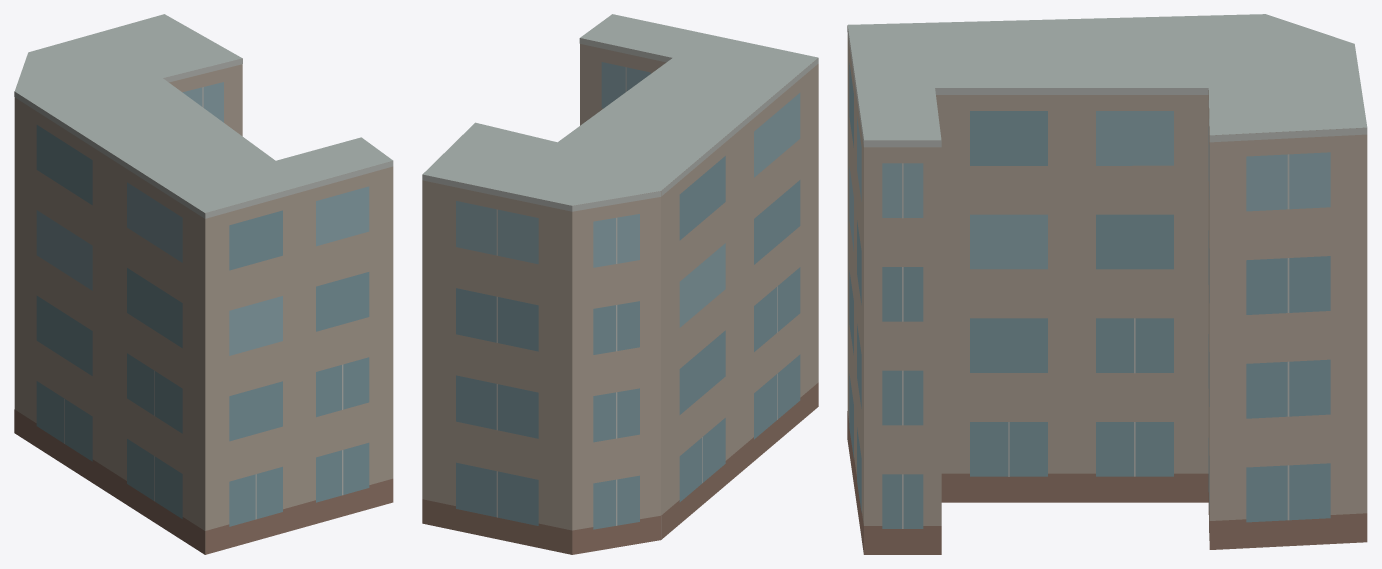
File: survey-upis-32469194.glb
The picture shows the model from 3 angles, left to right: view 1: azimuth 30°, elevation 25°; view 2: azimuth 150°, elevation 25°; view 3: azimuth 270°, elevation 25°; orthographic projection. The views are drawn at different scales.
Parts seen in each view (by area): view 1: survey-upis-32469194.tmp; view 2: survey-upis-32469194.tmp; view 3: survey-upis-32469194.tmp.
Part boxes in pixels (x1,y1,x2,y2): survey-upis-32469194.tmp: (14, 14, 393, 554); survey-upis-32469194.tmp: (422, 14, 818, 554); survey-upis-32469194.tmp: (847, 14, 1367, 554).
Bounding box in the file's own units: 9.48 × 14.5 × 16.49.
